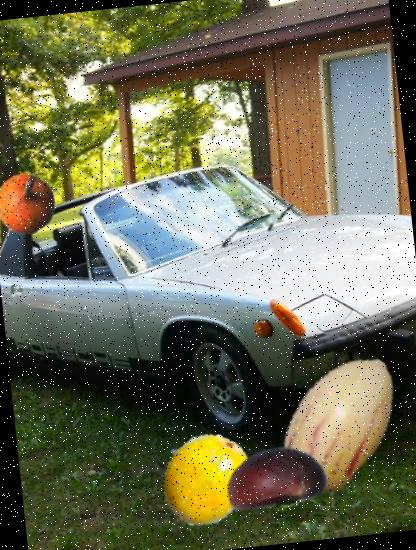Chestnut: (218, 420, 333, 534)
Granadilla: (0, 170, 59, 238)
Maracuja: (153, 428, 257, 532)
Pepino: (261, 342, 416, 502)
